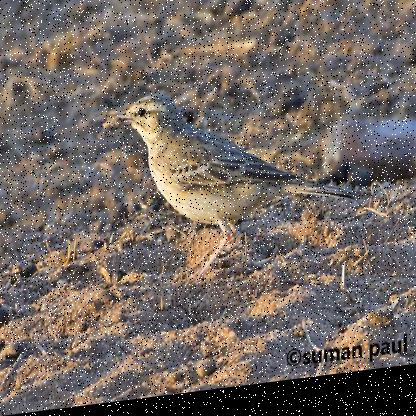Burung: (107, 82, 356, 283)
